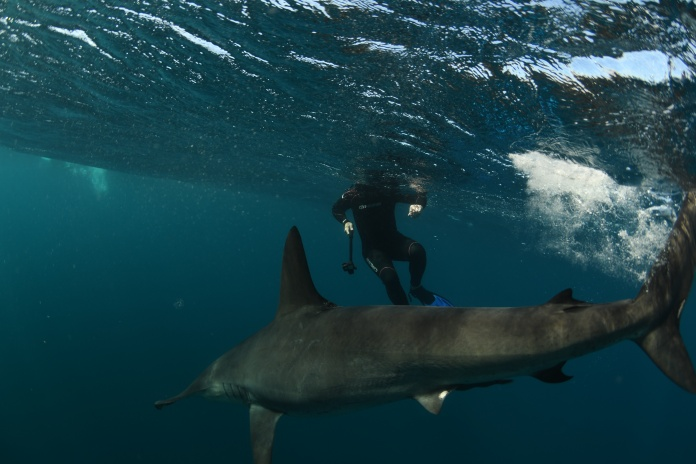Hammer: (89, 205, 696, 460)
